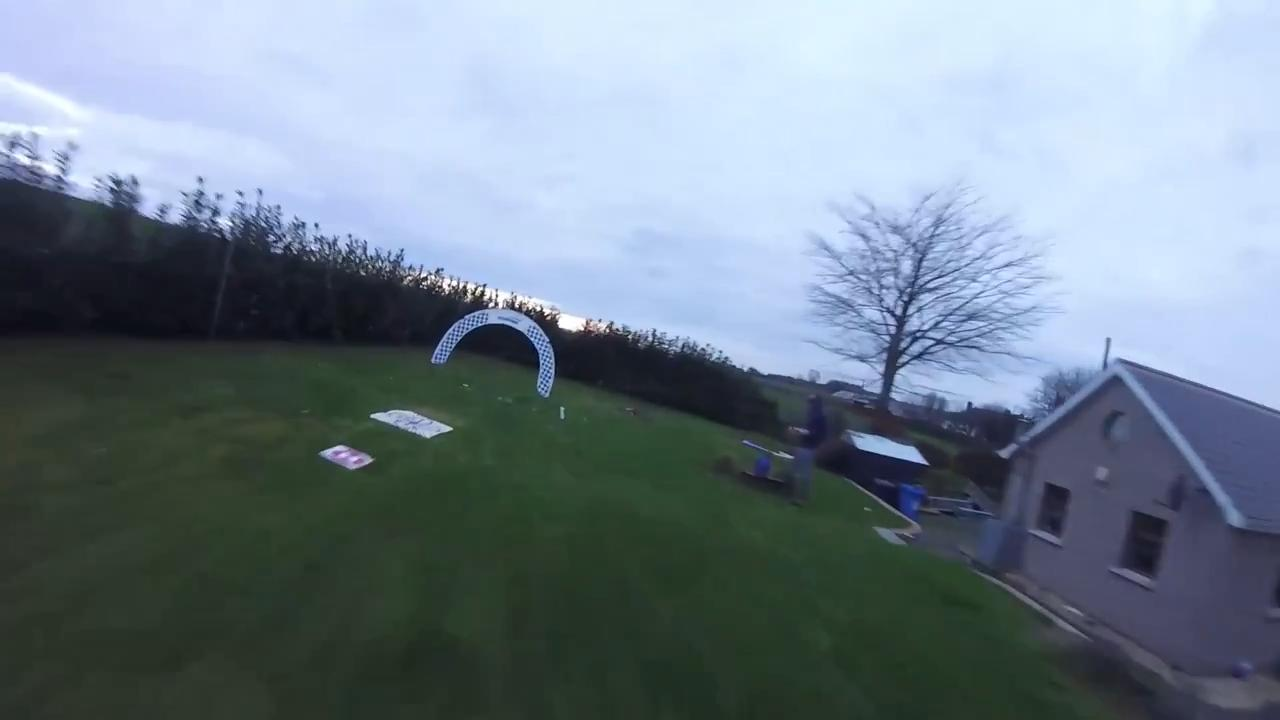gate: (435, 306, 556, 399)
